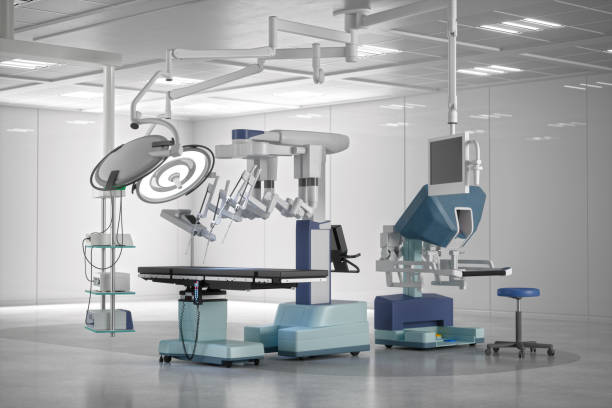bedside_monitor: (427, 137, 465, 196)
chair: (484, 287, 556, 359)
operating_bed: (138, 263, 328, 369)
surgical_light: (133, 148, 214, 204), (88, 134, 169, 190)
